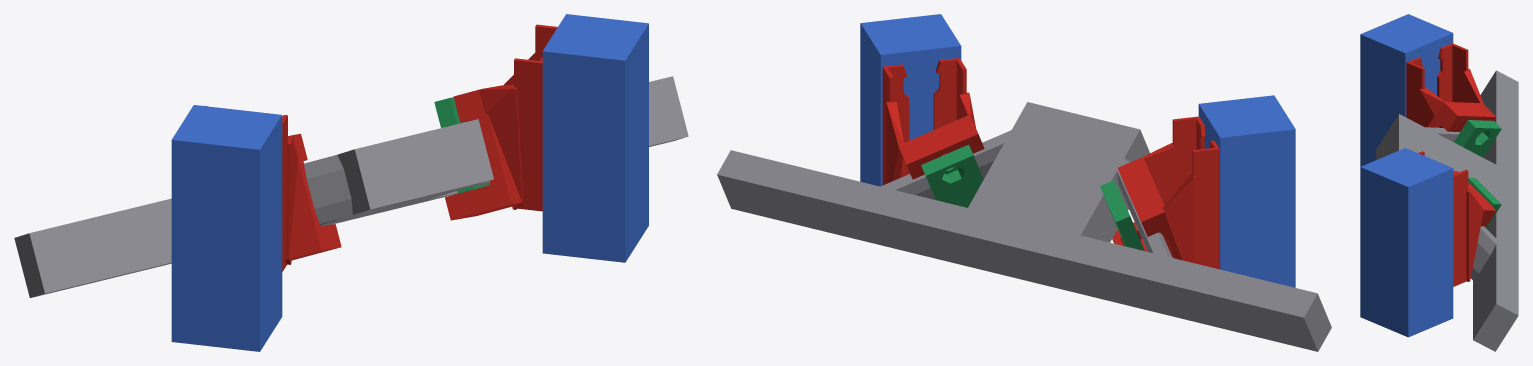
Rendered from assembly_m8.obj.
3 views of the same model, side by side, from view 1: azimuth 30°, elevation 25°; view 2: azimuth 150°, elevation 25°; view 3: azimuth 270°, elevation 25° (orthographic). The views are drawn at different scales.
Parts seen in each view (by area): view 1: left_light_placeholder, right_light_placeholder, hanger_schematic, right_saddle, left_saddle, right_keeper; view 2: hanger_schematic, left_light_placeholder, left_saddle, right_light_placeholder, right_saddle, right_keeper, left_keeper; view 3: right_light_placeholder, hanger_schematic, left_light_placeholder, left_saddle, right_saddle, left_keeper, right_keeper.
Part boxes in pixels (x1,y1,x2,y2): left_light_placeholder: (171,105,282,351); right_light_placeholder: (542,14,648,262); hanger_schematic: (14,76,688,297); right_saddle: (445,24,557,220); left_saddle: (205,106,341,271); right_keeper: (434,97,489,193); hanger_schematic: (717,102,1331,351); left_light_placeholder: (1198,95,1295,287); left_saddle: (1112,116,1219,269); right_light_placeholder: (860,14,961,186); right_saddle: (882,58,984,185); right_keeper: (921,144,983,207); left_keeper: (1100,180,1144,250); right_light_placeholder: (1360,148,1453,337); hanger_schematic: (1376,70,1518,351); left_light_placeholder: (1360,14,1453,166); left_saddle: (1406,43,1496,131); right_saddle: (1418,151,1496,286); left_keeper: (1454,120,1501,157); right_keeper: (1468,178,1501,228).
Size of the model in its own units: 260 by 78 by 74.52.
